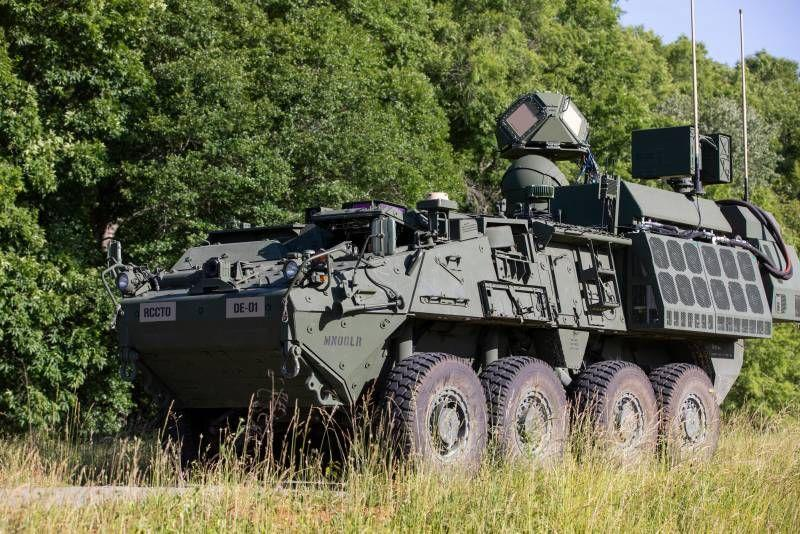MIL_IFV: (115, 93, 789, 481)
